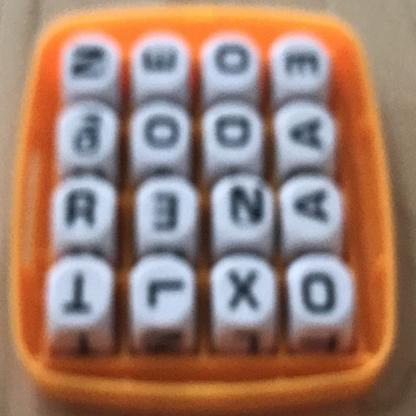a: (288, 175, 341, 238), (284, 107, 335, 167)
d: (210, 98, 260, 168)
e: (142, 180, 189, 249), (136, 31, 188, 86), (277, 39, 326, 88)
l: (136, 256, 195, 324)
n: (221, 176, 273, 246), (67, 29, 113, 91)
o: (296, 266, 349, 325), (141, 107, 188, 160), (212, 35, 254, 81)
r: (61, 184, 108, 245)
t: (55, 259, 103, 327)
w: (61, 107, 119, 164)
x: (220, 255, 270, 329)
